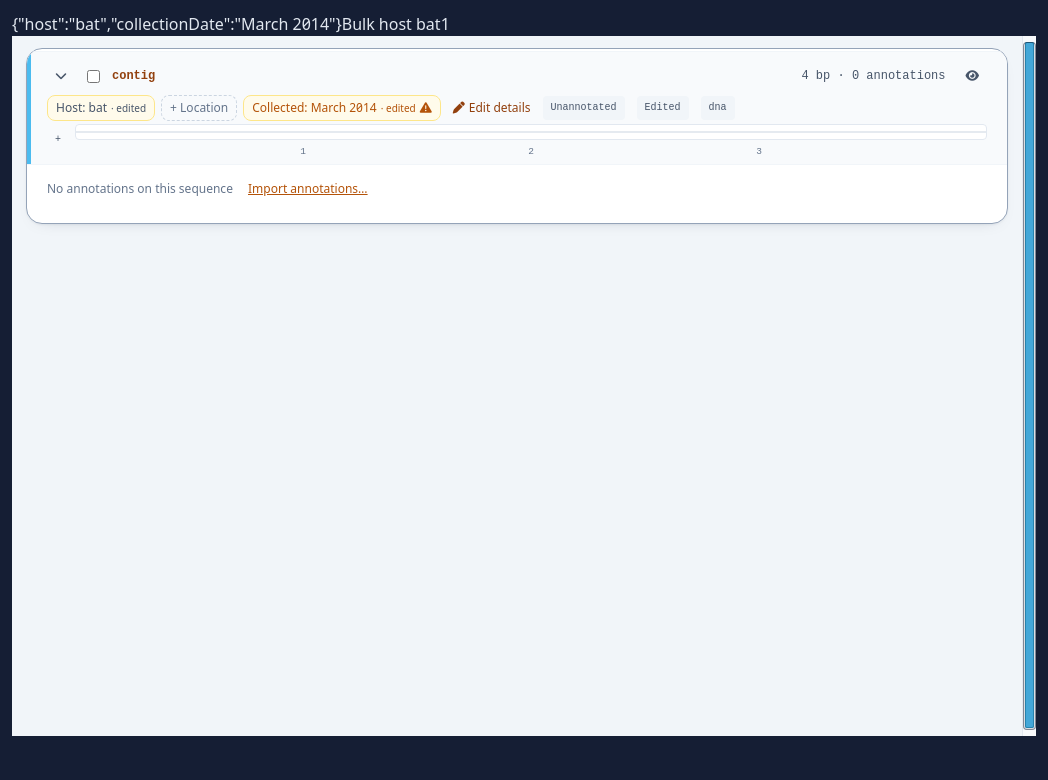
Test case: sequence details editing › reverts a changed field to its imported value and keeps other edits
The width and height of the screenshot is (1048, 780).
Click the button "Edit details": click(492, 108) left=453, top=96, right=531, bottom=120
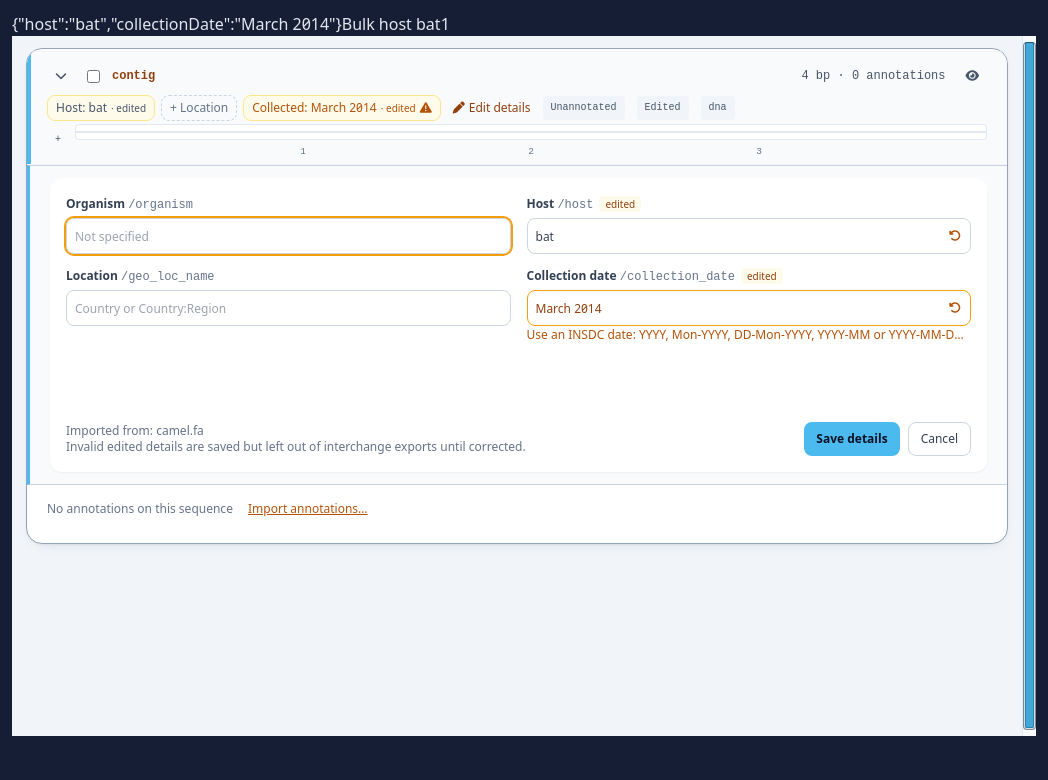
Click the button named "Revert Collection date to the file's value": click(955, 308) left=943, top=294, right=967, bottom=322
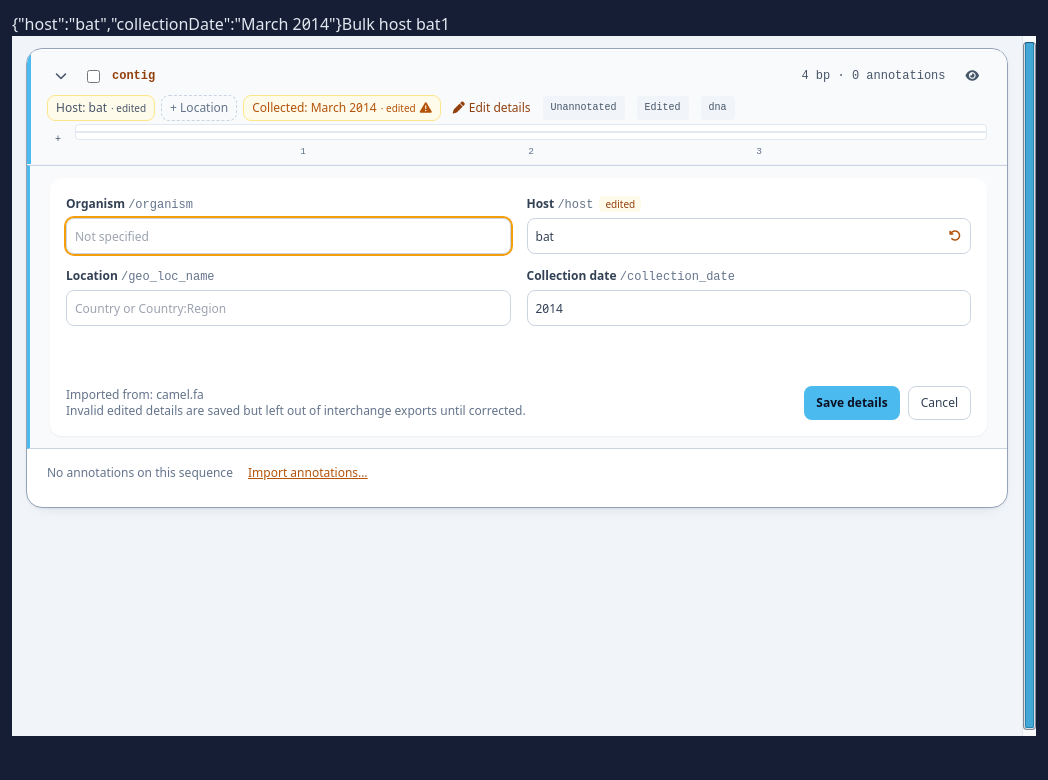
Expected: the field labelled "Collection date" holds "2014", left=526, top=290, right=971, bottom=326
Click the button "Save details": click(852, 403) left=804, top=386, right=900, bottom=420
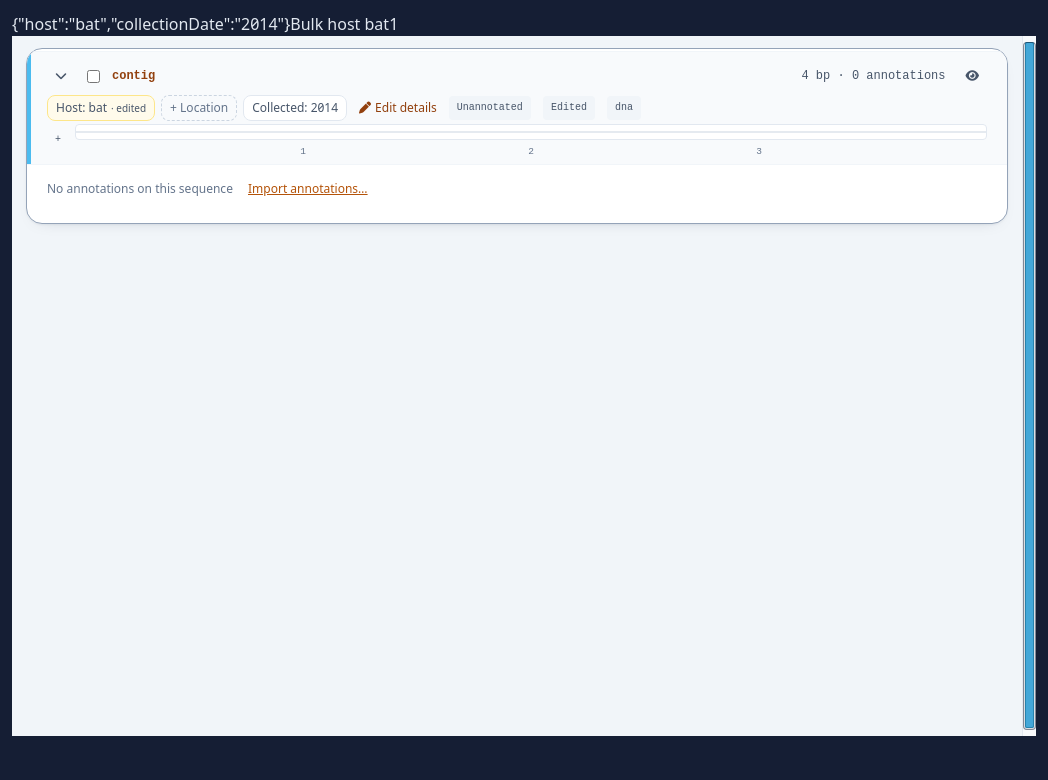
Expected: the text named "Saved details" reads "{\"host\":\"bat\",\"collectionDate\":\"2014\"}", left=12, top=13, right=290, bottom=35
